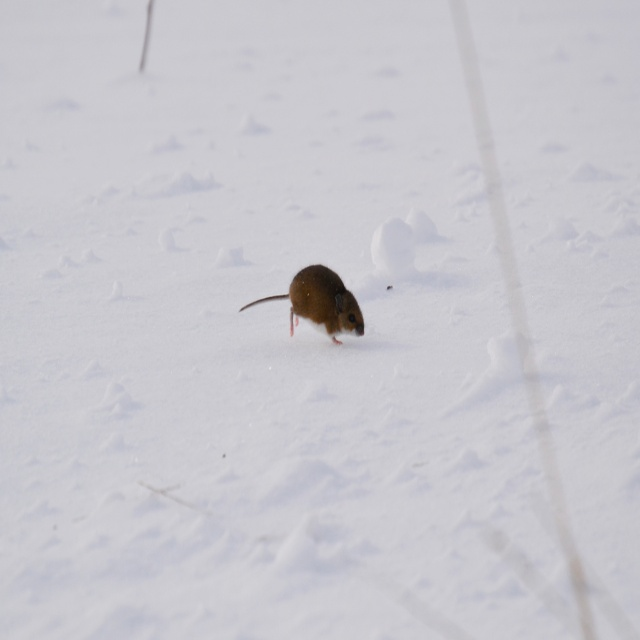Mouse: (240, 254, 361, 351)
